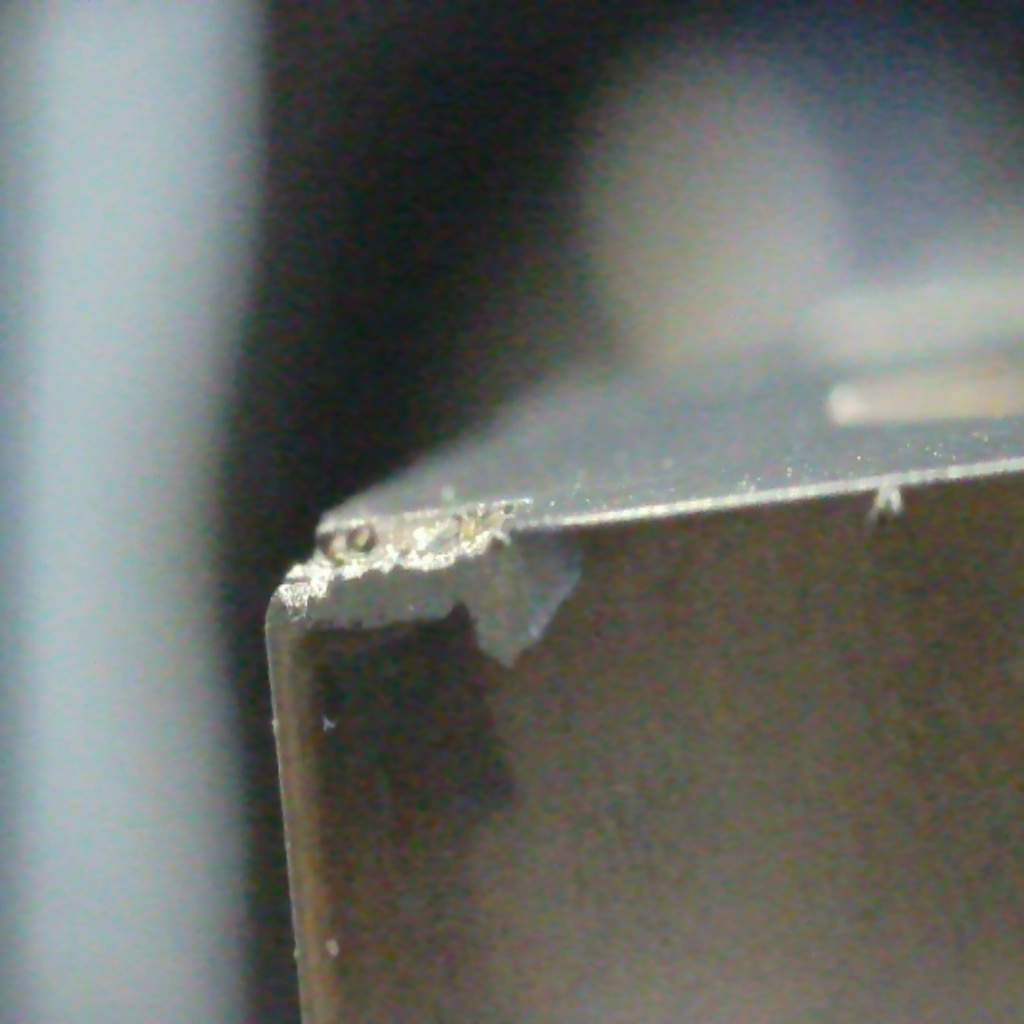flank_wear: (267, 584, 586, 656)
